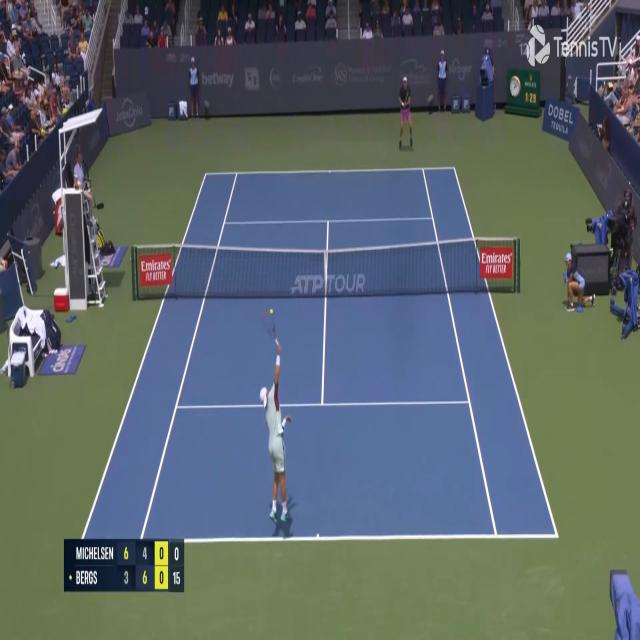tennis-player: (262, 322, 296, 530), (397, 75, 414, 151)
